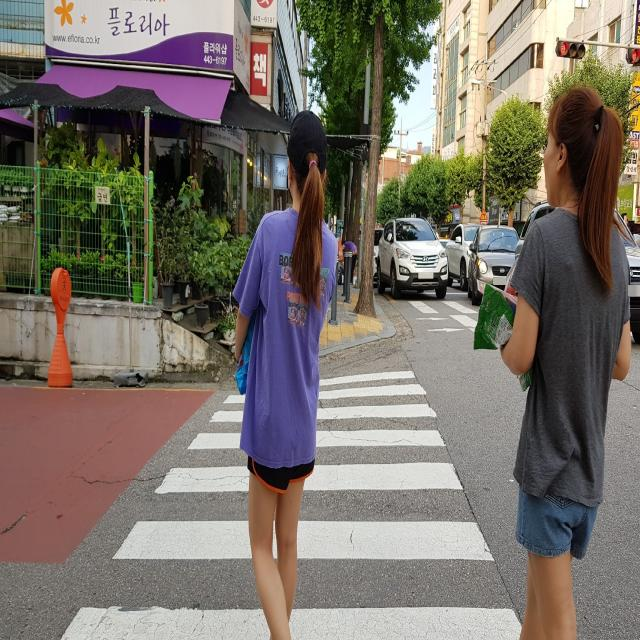횡단보도: (62, 371, 522, 639)
